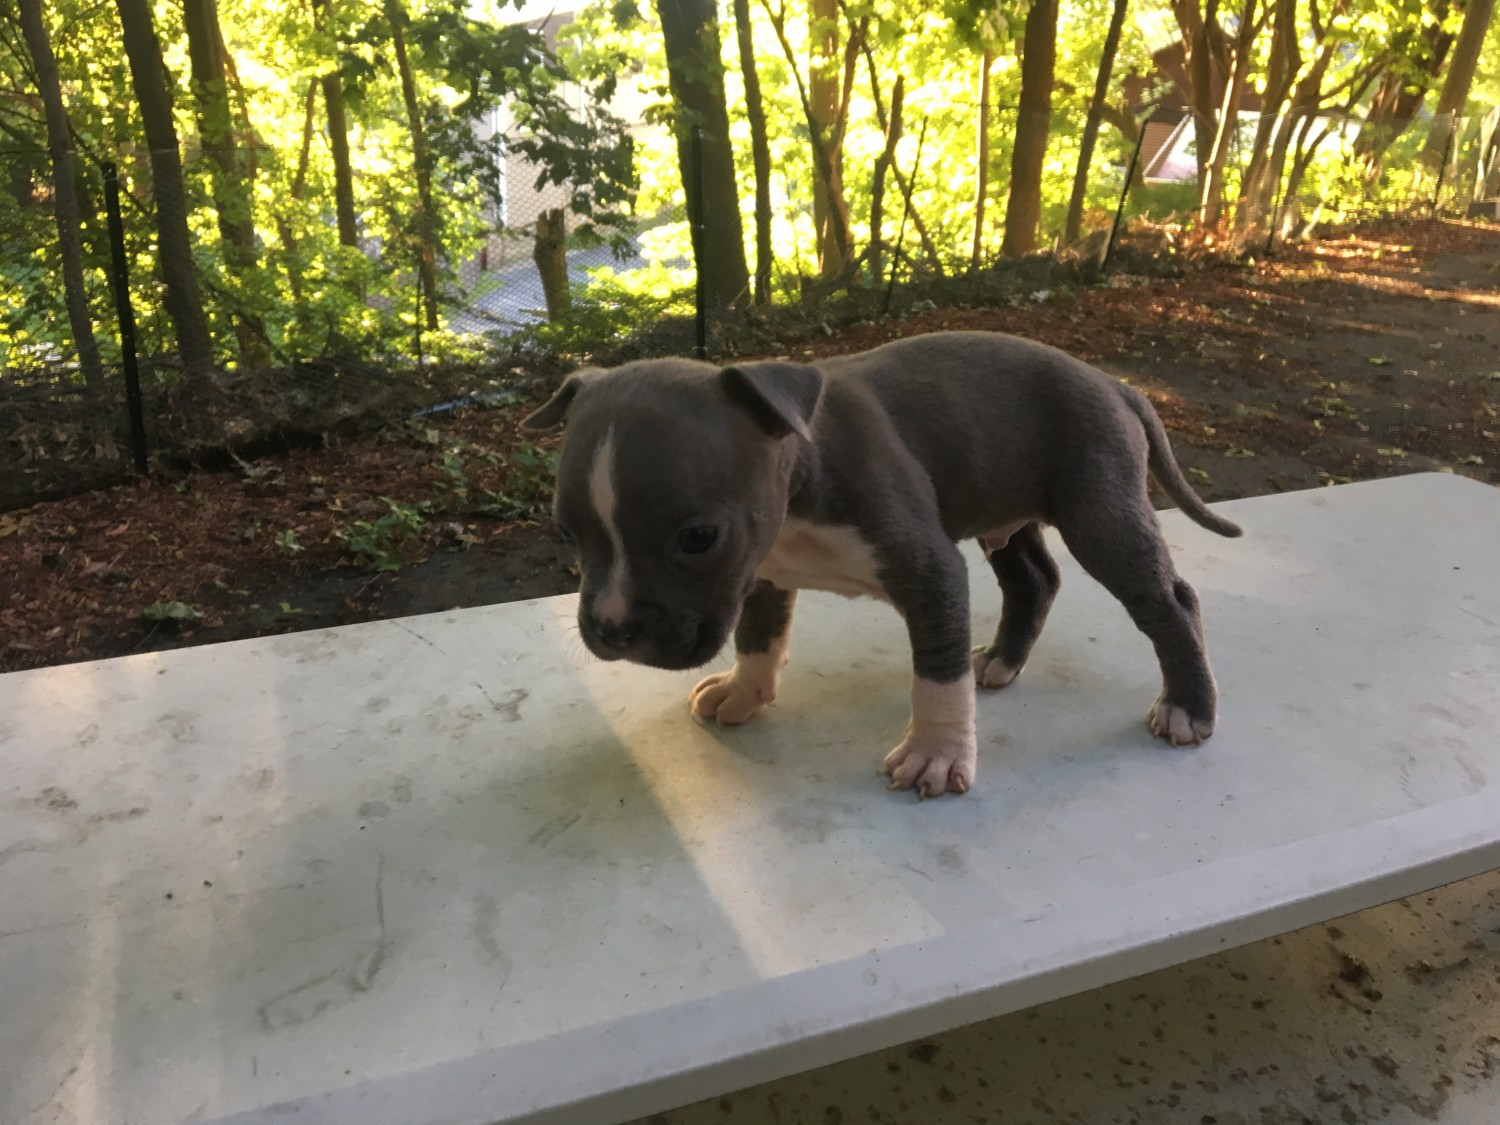am_pit_bull_terrier: (520, 329, 1244, 799)
